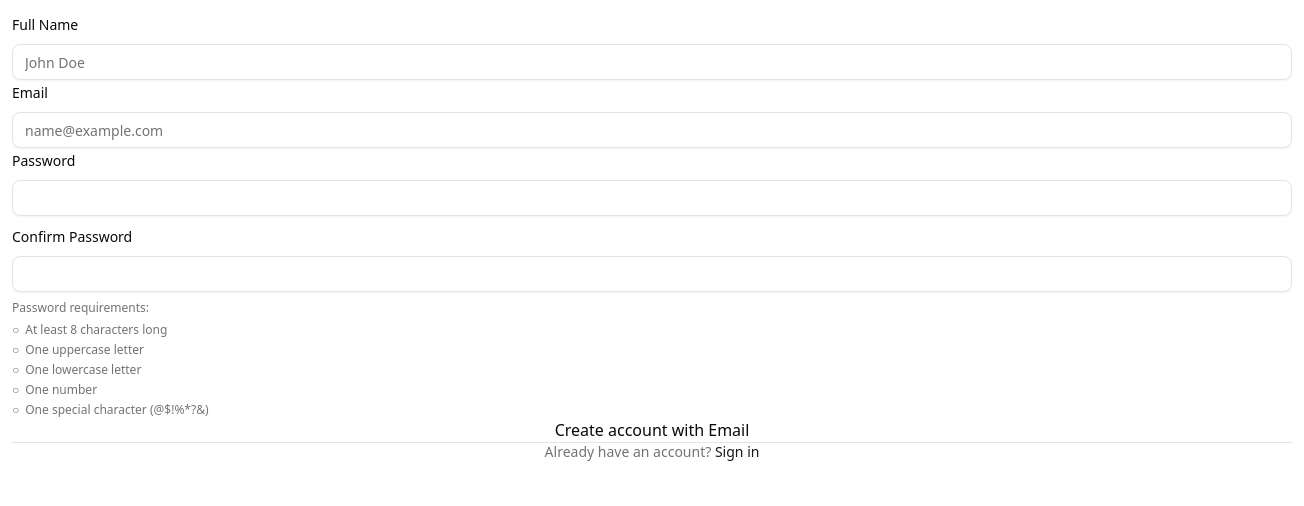
RegisterForm › validates full name length
// Test too short name
Type "A" into the field with test id "register-fullname-input".
click(652, 62); type("A")  # box [12,44,1292,80]
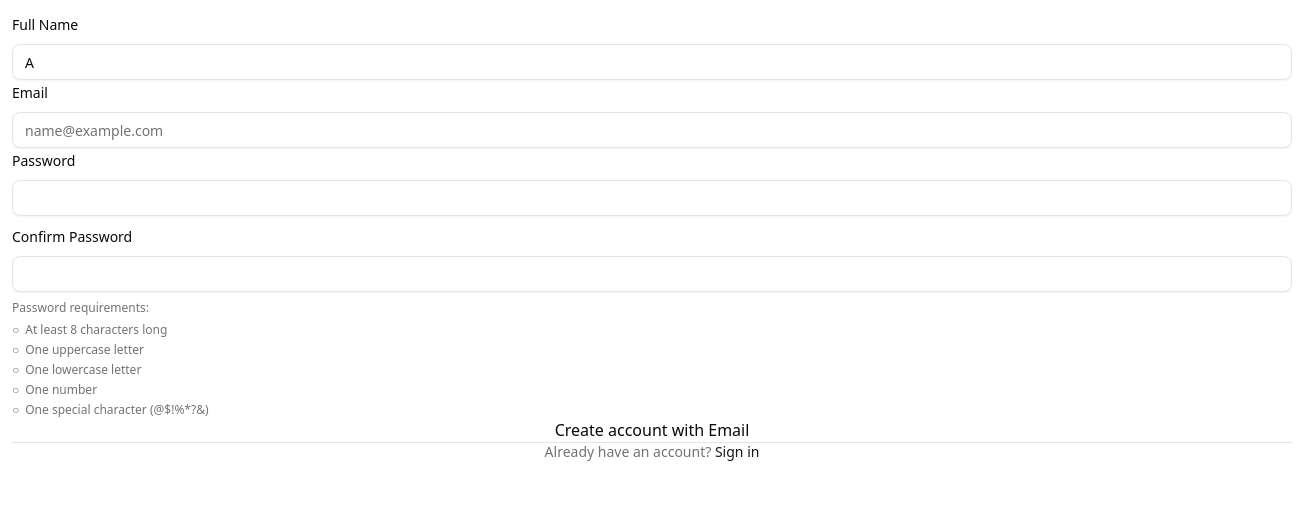
Leave the field with test id "register-fullname-input", box [12,44,1292,80]
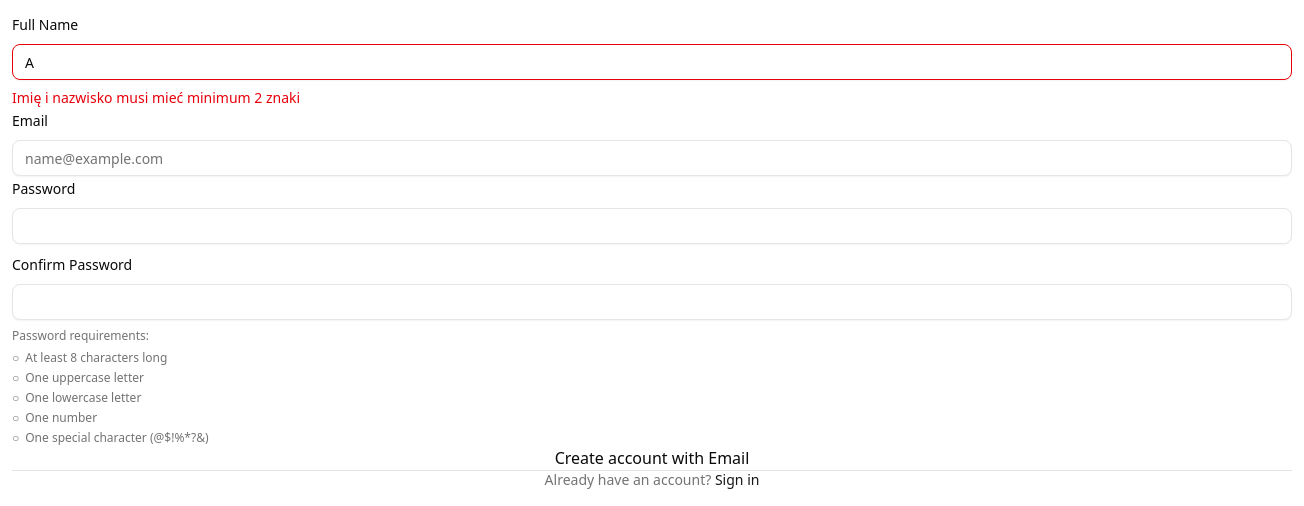
Now the text "Imię i nazwisko musi mieć minimum 2 znaki" is shown, box [12,88,300,107]
// Test valid name
Replace the text in the field with test id "register-fullname-input" with "John Doe" at point(652, 62), box [12,44,1292,80]
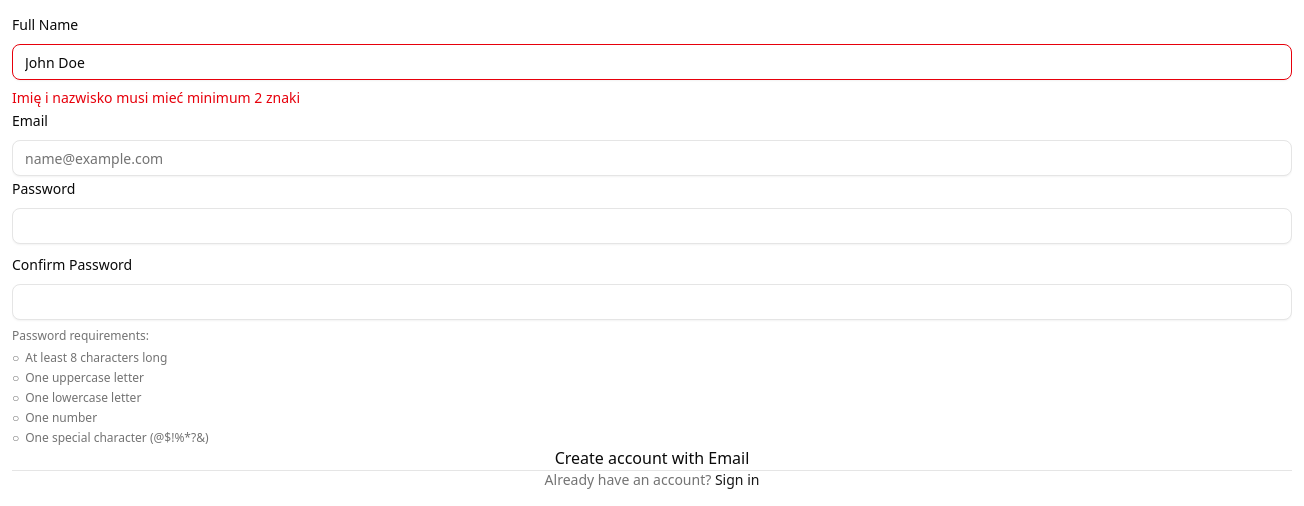
Leave the field with test id "register-fullname-input", box [12,44,1292,80]
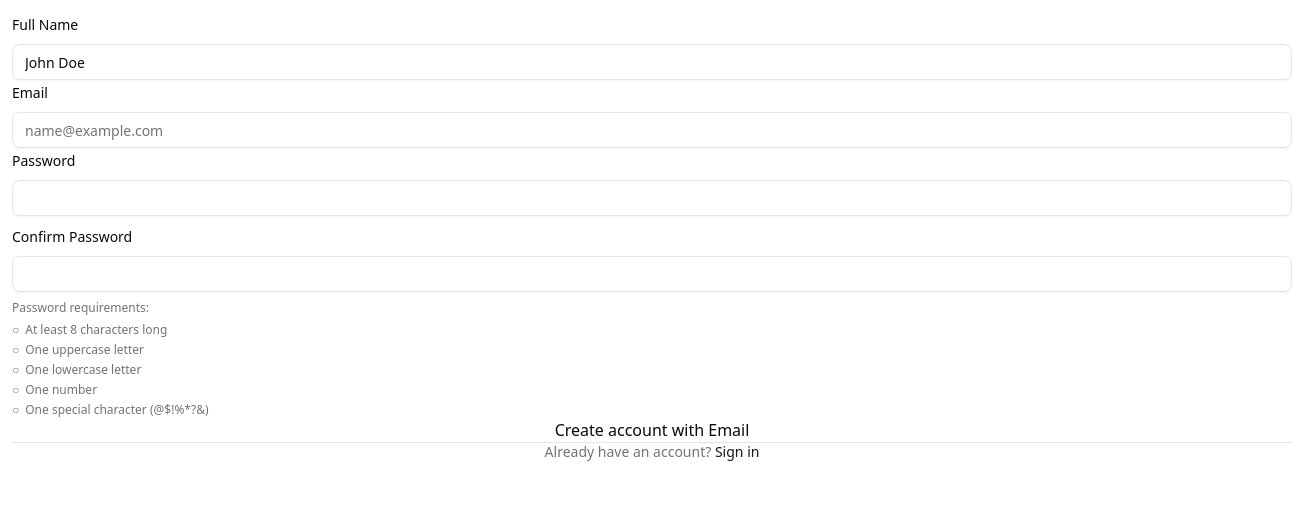
Now the text "Imię i nazwisko musi mieć minimum 2 znaki" is gone
